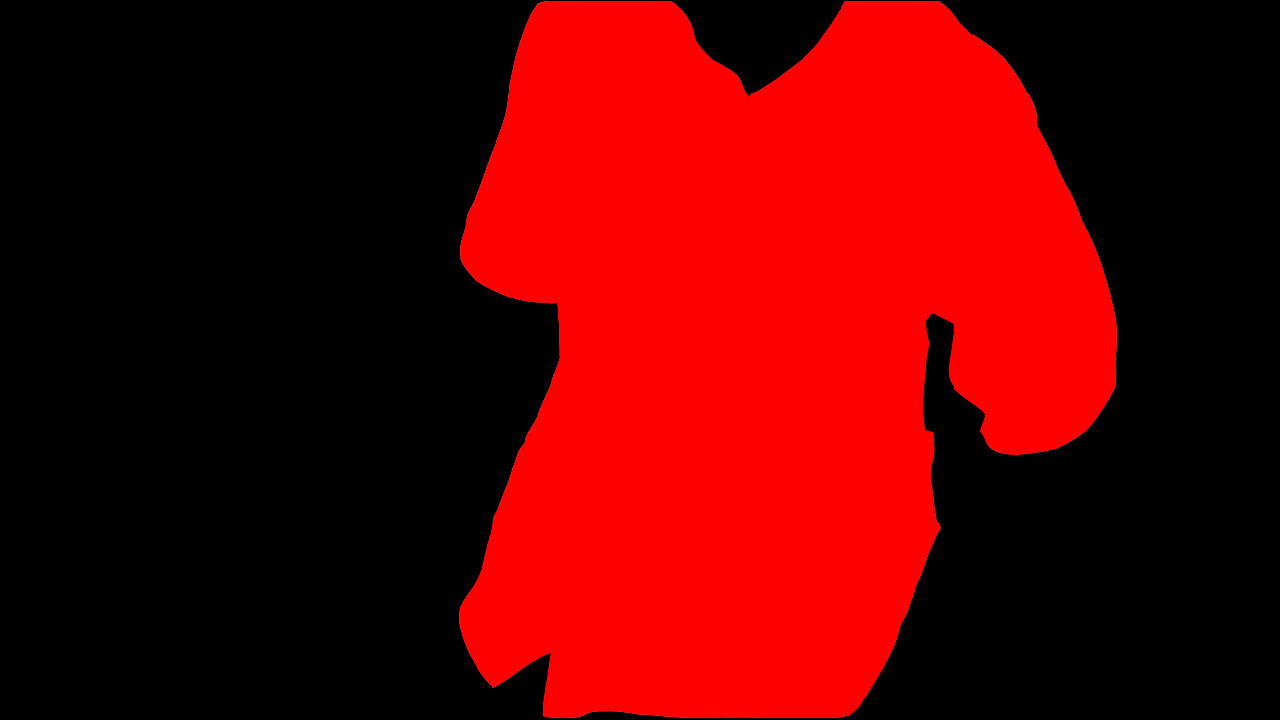uniforme_ifmt: (461, 3, 1116, 716)
